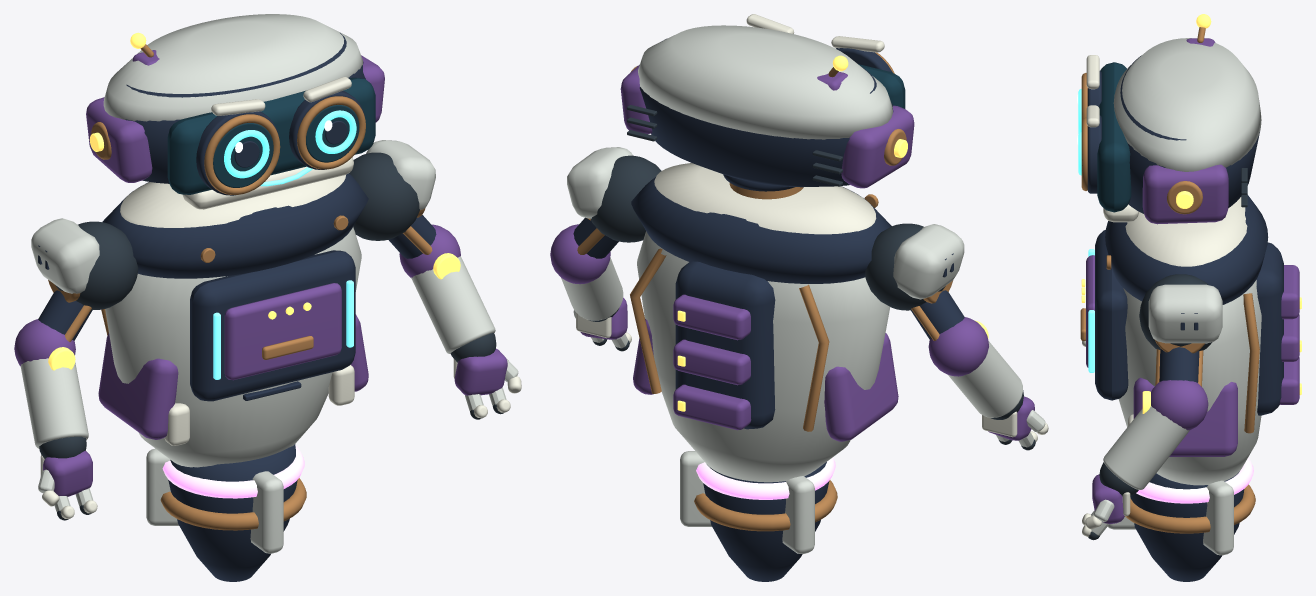
File: district-host.glb
3 views of the same model, side by side, from view 1: azimuth 30°, elevation 25°; view 2: azimuth 150°, elevation 25°; view 3: azimuth 270°, elevation 25° (orthographic). The views are drawn at different scales.
Visible parts, largest first — view 1: HostRoot_Surfaces, Head_Surfaces, ArmL_Surfaces, ArmR_Surfaces, Core_Surfaces; view 2: HostRoot_Surfaces, Head_Surfaces, ArmL_Surfaces, ArmR_Surfaces, Core_Surfaces; view 3: HostRoot_Surfaces, Head_Surfaces, ArmR_Surfaces, Core_Surfaces.
Part boxes in pixels (x1,y1,x2,y2): HostRoot_Surfaces: (98,173,368,467); Head_Surfaces: (86,14,384,209); ArmL_Surfaces: (14,218,138,520); ArmR_Surfaces: (349,140,521,419); Core_Surfaces: (146,444,306,581); HostRoot_Surfaces: (630,163,898,482); Head_Surfaces: (620,14,914,188); ArmL_Surfaces: (865,223,1048,450); ArmR_Surfaces: (550,147,661,351); Core_Surfaces: (680,451,837,581); HostRoot_Surfaces: (1080,195,1301,485); Head_Surfaces: (1077,14,1261,224); ArmR_Surfaces: (1082,274,1222,540); Core_Surfaces: (1107,457,1255,581).
Bounding box in the file's own units: 2.71 × 3 × 1.18.
